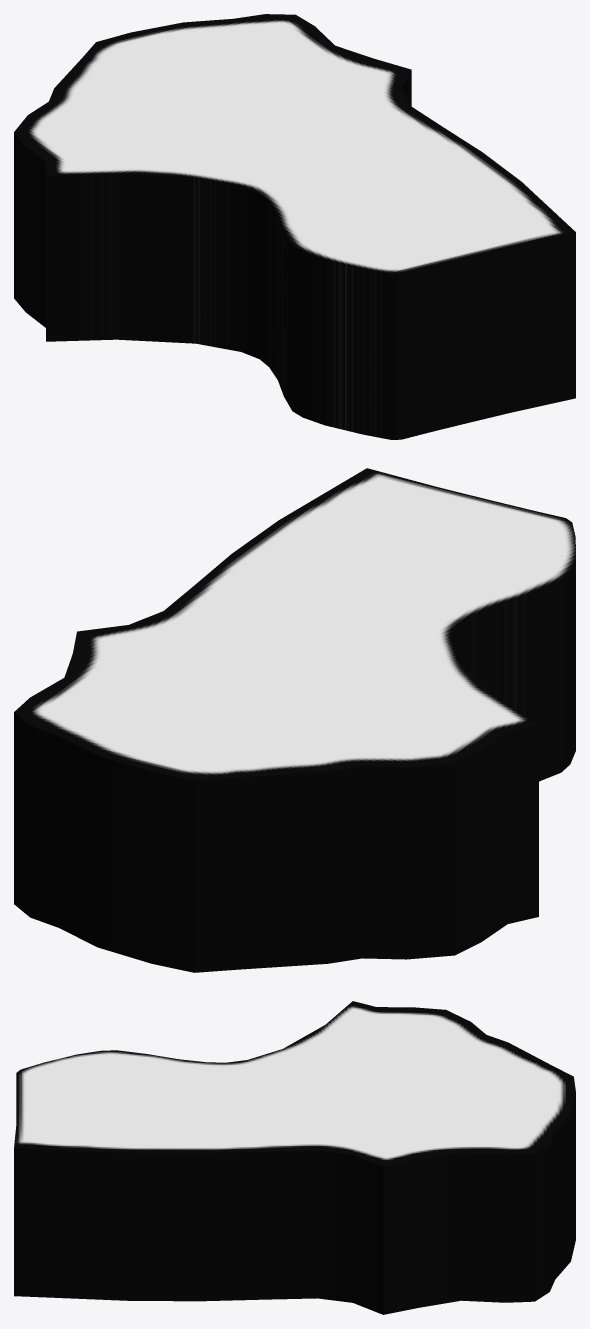
The picture shows the model from 3 angles, top to bottom: view 1: azimuth 30°, elevation 25°; view 2: azimuth 150°, elevation 25°; view 3: azimuth 270°, elevation 25°; orthographic projection. The views are drawn at different scales.
Visible parts, largest first — view 1: polySurface51; view 2: polySurface51; view 3: polySurface51.
Part boxes in pixels (x1,y1,x2,y2): polySurface51: (14, 14, 575, 439); polySurface51: (14, 468, 575, 972); polySurface51: (14, 1001, 575, 1314).
Bounding box in the file's own units: 1.2 × 0.5 × 1.72.
